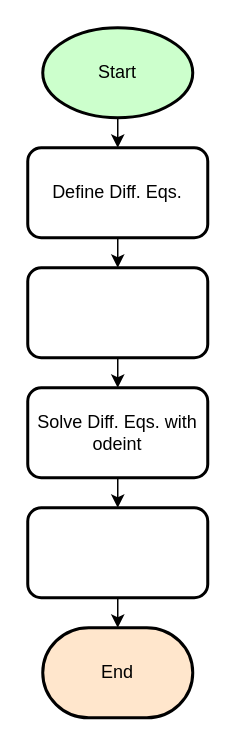
Some shapes in this 234 by 744 pixel diagram are drawn without their labels. Each missing label, with the centre of its shape:
"Define Power Series Solution Eqs." belongs at point 117,312.
"Plot" belongs at point 117,552.
